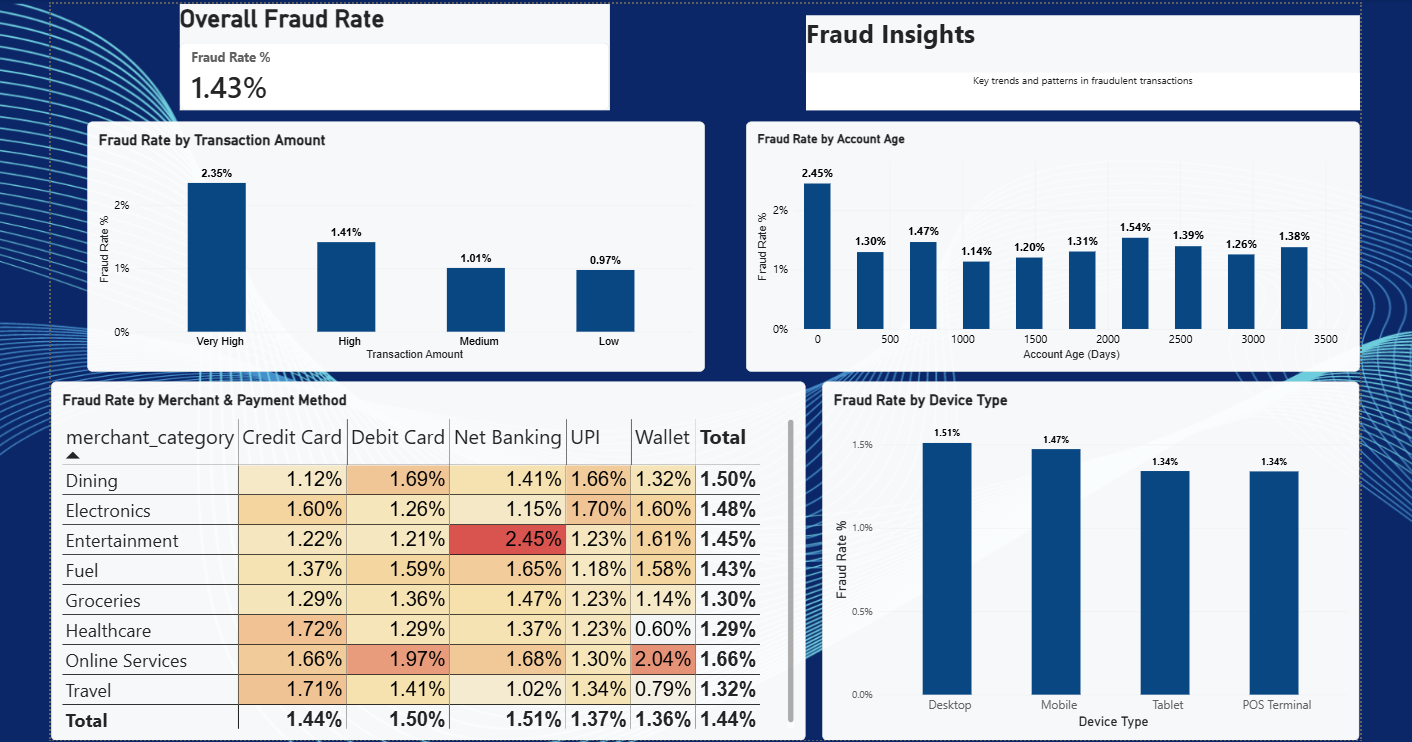

The page's visual inventory and layout, read from the dashboard file:
{"tool":"powerbi","page":{"name":"Fraud Insights","canvas":[1920,1080],"ordinal":2},"visuals":[{"type":"cardVisual","title":"Overall Fraud Rate","fields":{"Data":["banking_fraud_processed_final (2).Fraud Rate %"]},"box":[189.4,0,631,155.9],"z":0},{"type":"clusteredColumnChart","title":"Fraud Rate by Transaction Amount","fields":{"Category":["banking_fraud_processed_final (2).amount_band"],"Y":["banking_fraud_processed_final (2).Fraud Rate %"]},"box":[53.2,172.4,906.1,366.8],"z":1000},{"type":"clusteredColumnChart","title":"Fraud Rate by Account Age","fields":{"Category":["banking_fraud_processed_final (2).account_age_days (bins)"],"Y":["banking_fraud_processed_final (2).Fraud Rate %"]},"box":[1019.8,172.4,900.6,366.8],"z":2000},{"type":"pivotTable","title":"Fraud Rate by Merchant & Payment Method","fields":{"Columns":["banking_fraud_processed_final (2).payment_method"],"Rows":["banking_fraud_processed_final (2).merchant_category"],"Values":["banking_fraud_processed_final (2).Fraud Rate %"]},"box":[0,553.7,1107.4,526.9],"z":3000},{"type":"clusteredColumnChart","title":"Fraud Rate by Device Type","fields":{"Category":["banking_fraud_processed_final (2).device_type"],"Y":["banking_fraud_processed_final (2).Fraud Rate %"]},"box":[1132.1,553.7,788.3,526.9],"z":4000},{"type":"textbox","box":[1107.9,16.5,812.6,139.4],"z":15000},{"type":"textbox","box":[1107.9,100.9,812.6,55],"z":16000}]}

Visuals, with their boxes in screenshot pixels (x1, y1, x2, y2):
"Overall Fraud Rate" cardVisual: {"left": 180, "top": 4, "right": 608, "bottom": 109}
"Fraud Rate by Transaction Amount" clusteredColumnChart: {"left": 88, "top": 121, "right": 702, "bottom": 369}
"Fraud Rate by Account Age" clusteredColumnChart: {"left": 743, "top": 121, "right": 1354, "bottom": 369}
"Fraud Rate by Merchant & Payment Method" pivotTable: {"left": 51, "top": 379, "right": 803, "bottom": 737}
"Fraud Rate by Device Type" clusteredColumnChart: {"left": 819, "top": 379, "right": 1354, "bottom": 737}
textbox: {"left": 803, "top": 15, "right": 1354, "bottom": 109}
textbox: {"left": 803, "top": 72, "right": 1354, "bottom": 109}
